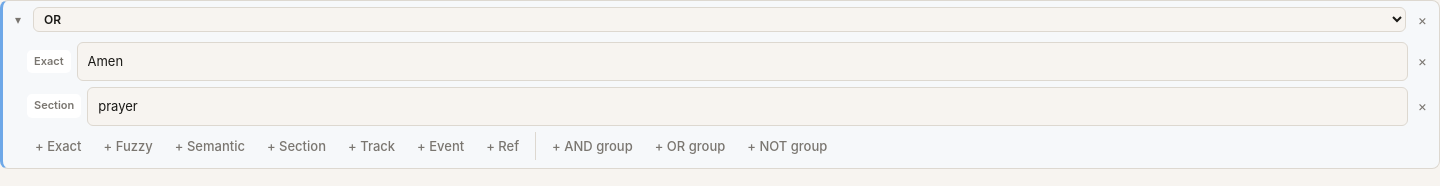
Test case: ConditionTreeEditor › switching a group op to NOT truncates children to at most one and disables further additions
The image size is (1440, 186).
Select "NOT" in the dropdown showing "OR": [719, 20] box [33,7,1406,32]
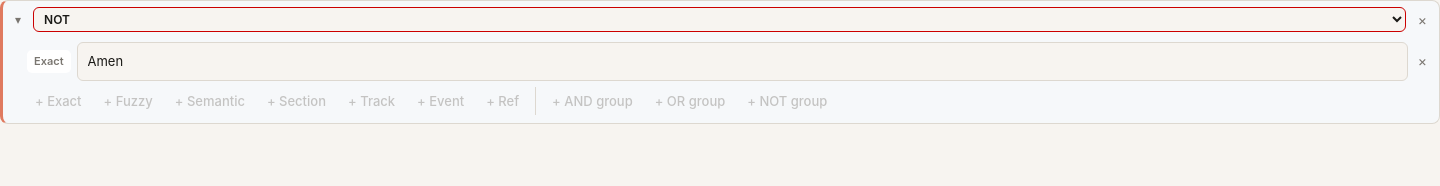
Expected: the field showing "Amen" is shown, [76,42,1408,81]
Expected: the button "+ Exact" is disabled, [27,87,90,115]
